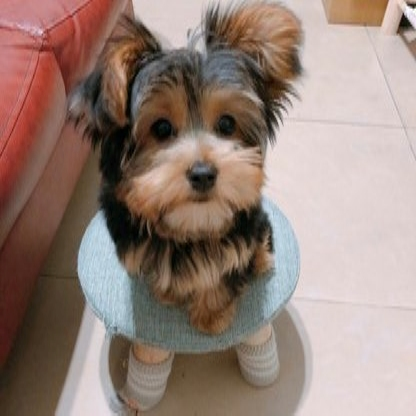yorkshire: (67, 1, 304, 327)
